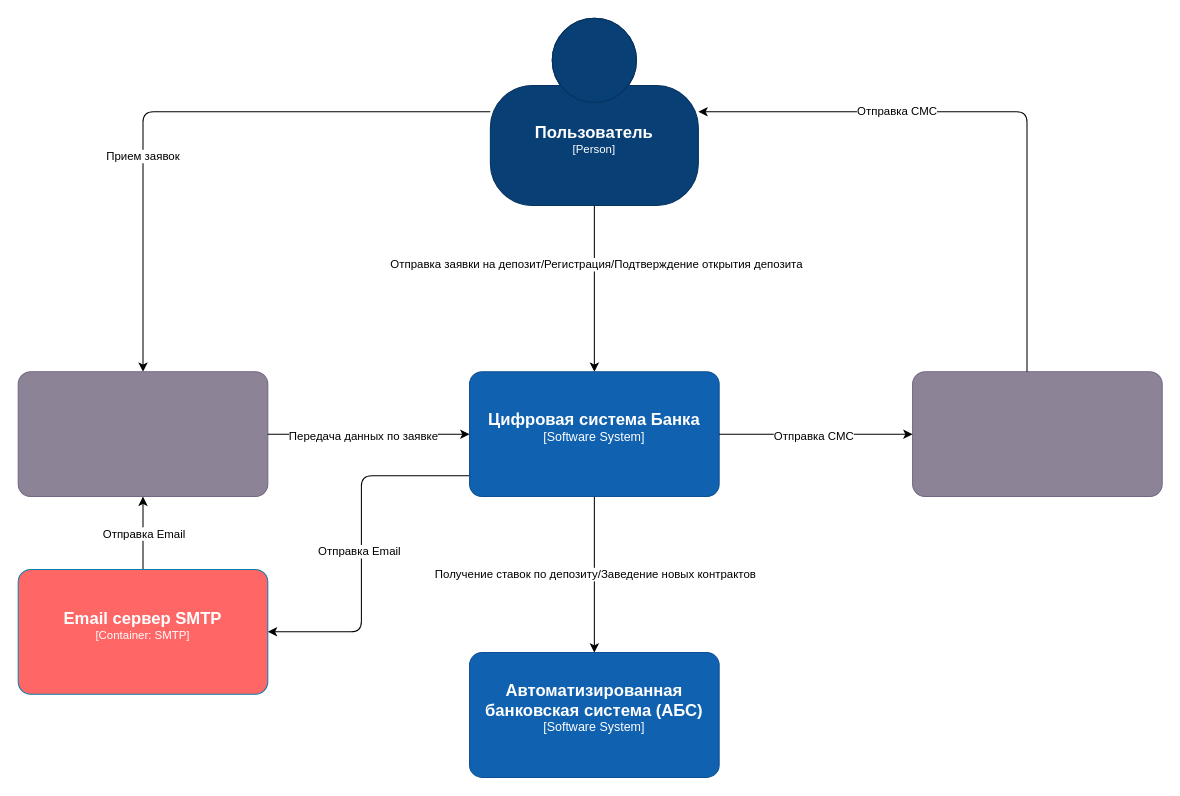
Image size: 1180x796. Some labels were removed from this diagram. The centre of each missing label's shape, as x and y in pixels:
Партнерский колл-центр [Software System]: [142,434]
Телеком-оператор [Software System]: [1037,434]
